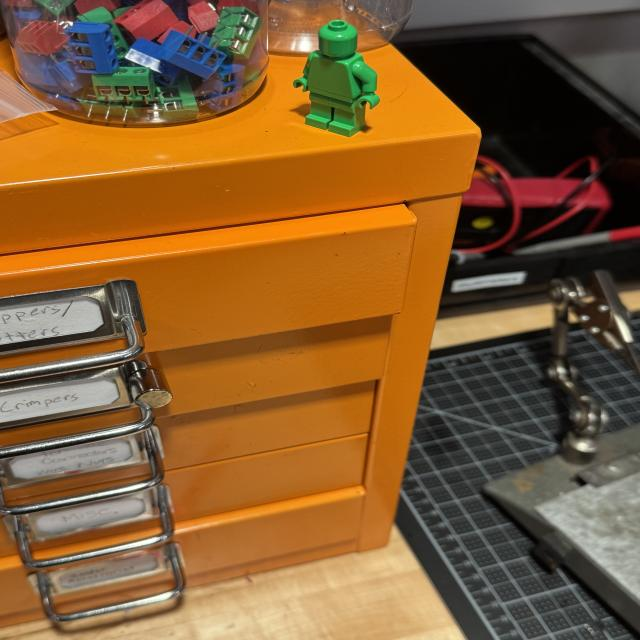Green Mini Figure: (293, 19, 380, 137)
